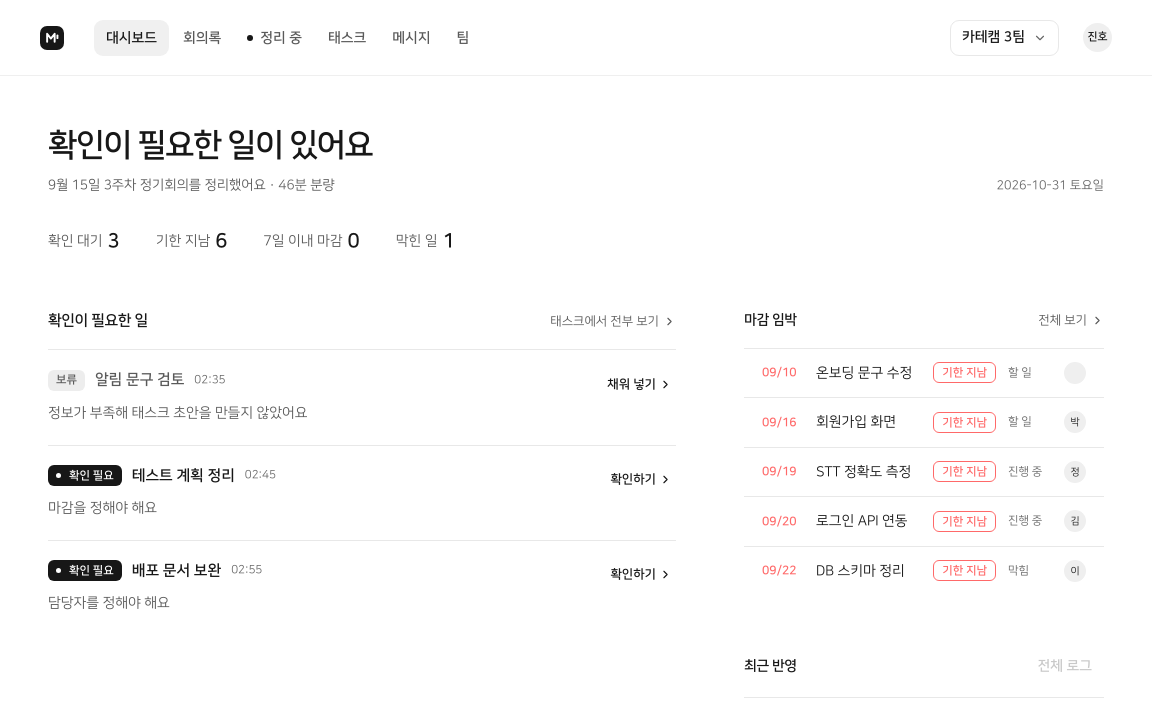
Test: 워크스페이스 선택 화면과 헤더 메뉴 (U4-1) › 헤더 메뉴도 같은 목록·같은 표시·같은 진입 정책이다
The image size is (1152, 711).
Click the button with aria-label "워크스페이스 바꾸기" at (1004, 38), box [950,20,1059,56]
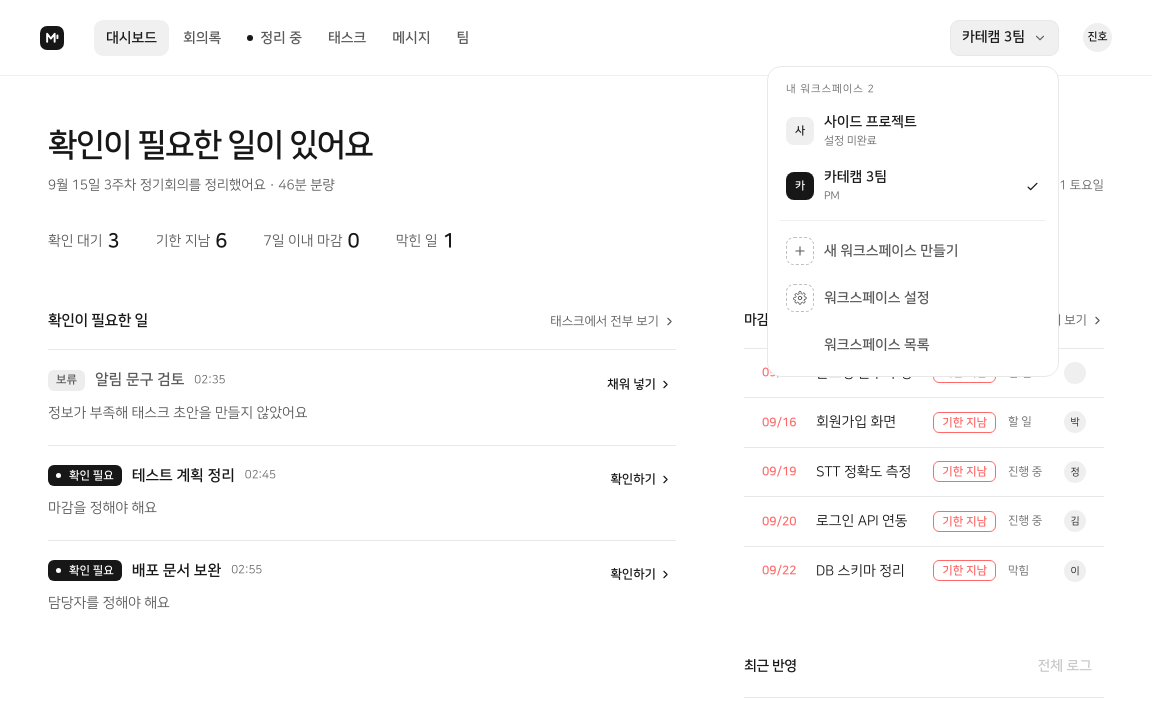
Expected: the text "내 워크스페이스 2" is shown, [786,83,875,95]
Expected: the menu item "사 사이드 프로젝트 설정 미완료" is shown
Expected: the menu item "카 카테캠 3팀 PM" is shown, [776,159,1050,213]
Click the menu item "사 사이드 프로젝트 설정 미완료" at (851, 131), box [786,114,917,147]
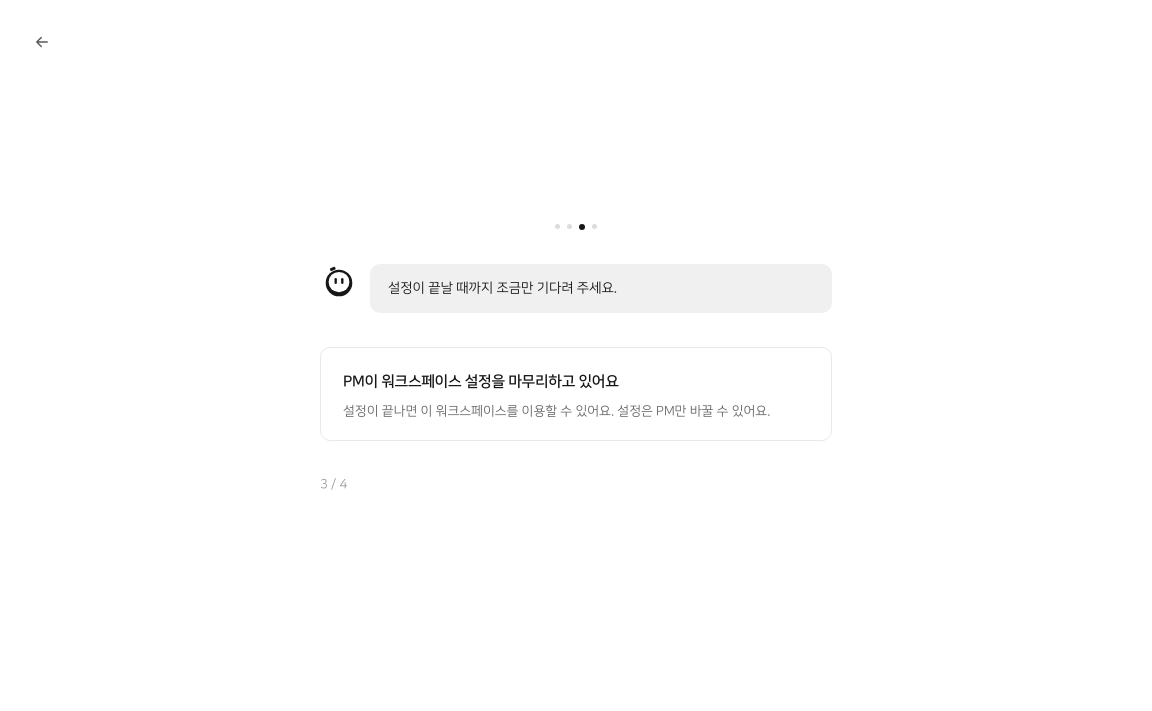
Expected: the heading "PM이 워크스페이스 설정을 마무리하고 있어요" is shown, [343,373,618,390]
